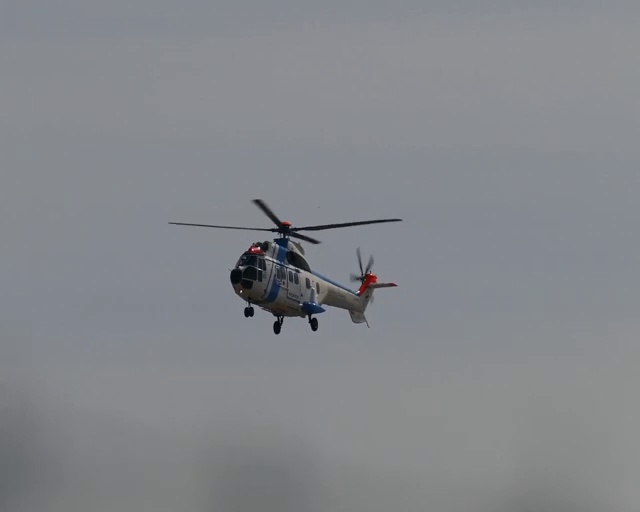HELICOPTER: (168, 197, 403, 336)
